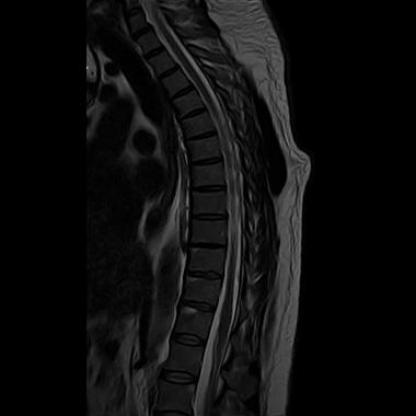Disc Protrusionrotation: (170, 90, 203, 119), (184, 130, 219, 145)
